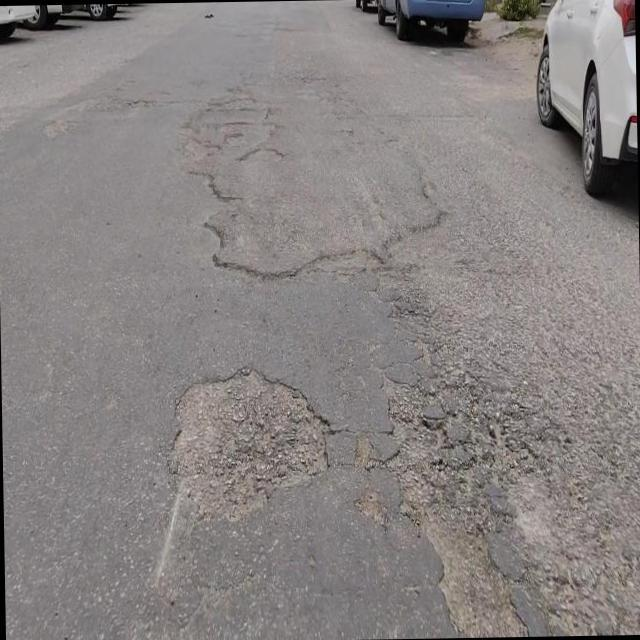Pothole: (163, 372, 331, 526), (408, 463, 522, 637)
